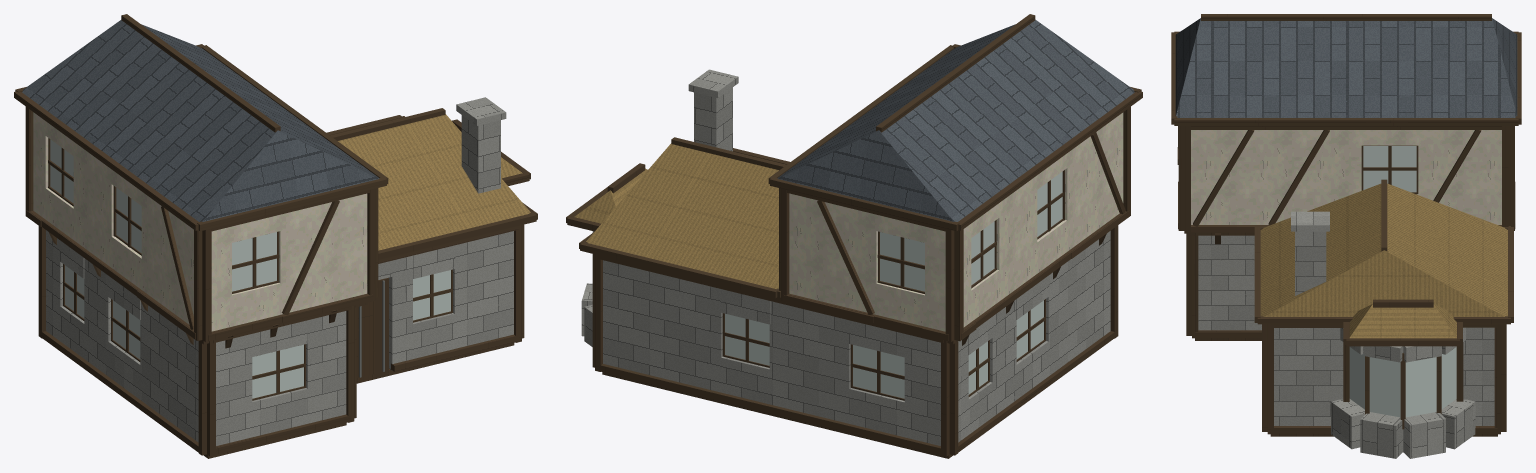
The model's file is lodge.glb.
The picture shows the model from 3 angles, left to right: view 1: azimuth 30°, elevation 25°; view 2: azimuth 150°, elevation 25°; view 3: azimuth 270°, elevation 25°; orthographic projection. The views are drawn at different scales.
Parts seen in each view (by area): view 1: Lodge_GroundShell_Light_gray_limestone, Lodge_Roof_Blue_gray_slate, Lodge_UpperShell_Oat_plaster, Lodge_Roof_Muted_wheat_thatch, Lodge_GroundShell_Warm_oak, Lodge_UpperShell_Warm_oak, Lodge_Roof_Warm_oak, Lodge_Glazing_Muted_old_glass, Lodge_Chimney_Light_gray_limestone, Lodge_Door_Warm_oak, Lodge_GroundFloor_Warm_oak; view 2: Lodge_GroundShell_Light_gray_limestone, Lodge_Roof_Blue_gray_slate, Lodge_UpperShell_Oat_plaster, Lodge_Roof_Muted_wheat_thatch, Lodge_GroundShell_Warm_oak, Lodge_UpperShell_Warm_oak, Lodge_Roof_Warm_oak, Lodge_Glazing_Muted_old_glass, Lodge_Chimney_Light_gray_limestone, Lodge_GroundFloor_Warm_oak; view 3: Lodge_Roof_Blue_gray_slate, Lodge_Roof_Muted_wheat_thatch, Lodge_GroundShell_Light_gray_limestone, Lodge_UpperShell_Oat_plaster, Lodge_Roof_Warm_oak, Lodge_GroundShell_Warm_oak, Lodge_Glazing_Muted_old_glass, Lodge_UpperShell_Warm_oak, Lodge_Chimney_Light_gray_limestone, Lodge_GroundFloor_Warm_oak.
Part boxes in pixels (left/top/right/bottom): Lodge_GroundShell_Light_gray_limestone: left=46, top=230, right=513, bottom=445; Lodge_Roof_Blue_gray_slate: left=22, top=20, right=379, bottom=221; Lodge_UpperShell_Oat_plaster: left=33, top=112, right=367, bottom=331; Lodge_Roof_Muted_wheat_thatch: left=338, top=114, right=530, bottom=250; Lodge_GroundShell_Warm_oak: left=38, top=224, right=524, bottom=456; Lodge_UpperShell_Warm_oak: left=25, top=106, right=378, bottom=342; Lodge_Roof_Warm_oak: left=14, top=14, right=537, bottom=259; Lodge_Glazing_Muted_old_glass: left=50, top=139, right=450, bottom=398; Lodge_Chimney_Light_gray_limestone: left=456, top=97, right=506, bottom=193; Lodge_Door_Warm_oak: left=356, top=278, right=388, bottom=377; Lodge_GroundFloor_Warm_oak: left=204, top=343, right=514, bottom=458; Lodge_GroundShell_Light_gray_limestone: left=581, top=231, right=1110, bottom=445; Lodge_Roof_Blue_gray_slate: left=777, top=19, right=1134, bottom=221; Lodge_UpperShell_Oat_plaster: left=789, top=112, right=1123, bottom=331; Lodge_Roof_Muted_wheat_thatch: left=574, top=143, right=778, bottom=288; Lodge_GroundShell_Warm_oak: left=592, top=225, right=1118, bottom=456; Lodge_UpperShell_Warm_oak: left=779, top=107, right=1130, bottom=341; Lodge_Roof_Warm_oak: left=566, top=14, right=1142, bottom=298; Lodge_Glazing_Muted_old_glass: left=725, top=171, right=1062, bottom=398; Lodge_Chimney_Light_gray_limestone: left=688, top=69, right=738, bottom=151; Lodge_GroundFloor_Warm_oak: left=602, top=372, right=952, bottom=458; Lodge_Roof_Blue_gray_slate: left=1175, top=18, right=1517, bottom=117; Lodge_Roof_Muted_wheat_thatch: left=1260, top=183, right=1507, bottom=338; Lodge_GroundShell_Light_gray_limestone: left=1198, top=235, right=1494, bottom=458; Lodge_UpperShell_Oat_plaster: left=1191, top=130, right=1501, bottom=224; Lodge_Roof_Warm_oak: left=1171, top=14, right=1521, bottom=346; Lodge_GroundShell_Warm_oak: left=1186, top=233, right=1506, bottom=434; Lodge_Glazing_Muted_old_glass: left=1349, top=146, right=1456, bottom=417; Lodge_UpperShell_Warm_oak: left=1177, top=126, right=1515, bottom=233; Lodge_Chimney_Light_gray_limestone: left=1291, top=211, right=1329, bottom=295; Lodge_GroundFloor_Warm_oak: left=1195, top=338, right=1497, bottom=452.
Bounding box in the file's own units: 12.47 × 8.61 × 9.26.
29 materials, 9 textured.
